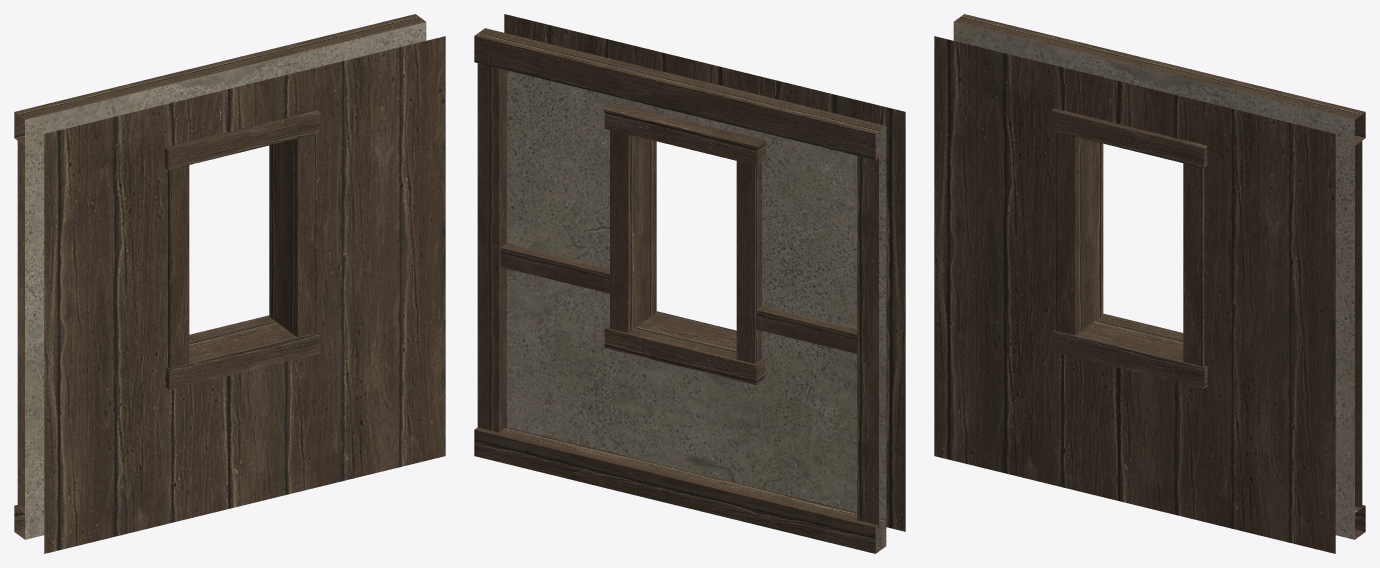
File: ARC1010244.fbx
The picture shows the model from 3 angles, left to right: view 1: azimuth 30°, elevation 25°; view 2: azimuth 150°, elevation 25°; view 3: azimuth 330°, elevation 25°; orthographic projection.
Parts seen in each view (by area): view 1: smARC1010244; view 2: smARC1010244; view 3: smARC1010244.
Boxes of the visible parts, box(x1,y1,x2,y2) form: smARC1010244: box(14, 14, 445, 553); smARC1010244: box(474, 14, 905, 553); smARC1010244: box(934, 14, 1365, 553).
Bounding box in the file's own units: 268 × 268 × 38.82.
Materials: 1 (1 with a texture image).
